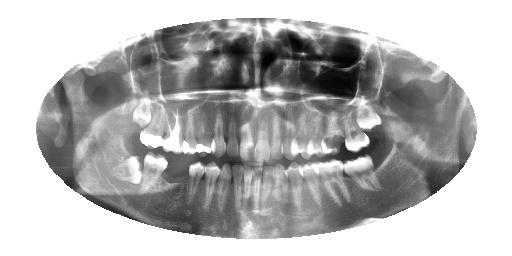i10decay: (230, 162, 247, 212)
i11decay: (218, 159, 233, 217)
i12healthy: (201, 156, 221, 213)
i13healthy: (185, 159, 208, 204)
i14loss: (166, 159, 188, 208)
i15healthy: (138, 150, 170, 200)
i16healthy: (108, 155, 145, 188)
i1loss: (374, 152, 396, 180)
i2healthy: (337, 154, 386, 188)
i3healthy: (315, 158, 355, 208)
i4healthy: (298, 160, 328, 211)
i5chipped: (283, 164, 307, 215)
i6healthy: (270, 162, 291, 212)
i7healthy: (260, 163, 275, 214)
i8healthy: (252, 161, 263, 212)
i9healthy: (243, 161, 254, 213)
u10decay: (225, 107, 242, 160)
u11healthy: (210, 105, 228, 161)
u12healthy: (195, 105, 215, 160)
u13healthy: (181, 104, 197, 157)
u14healthy: (162, 101, 185, 157)
u15healthy: (138, 105, 167, 153)
u16healthy: (127, 94, 157, 129)
u1loss: (374, 94, 395, 138)
u2healthy: (362, 94, 386, 134)
u3healthy: (335, 106, 373, 153)
u4decay: (318, 104, 343, 157)
u5healthy: (300, 104, 319, 163)
u6healthy: (281, 103, 302, 162)
u7healthy: (267, 102, 286, 162)
u8healthy: (251, 109, 272, 165)
u9healthy: (238, 108, 256, 165)
